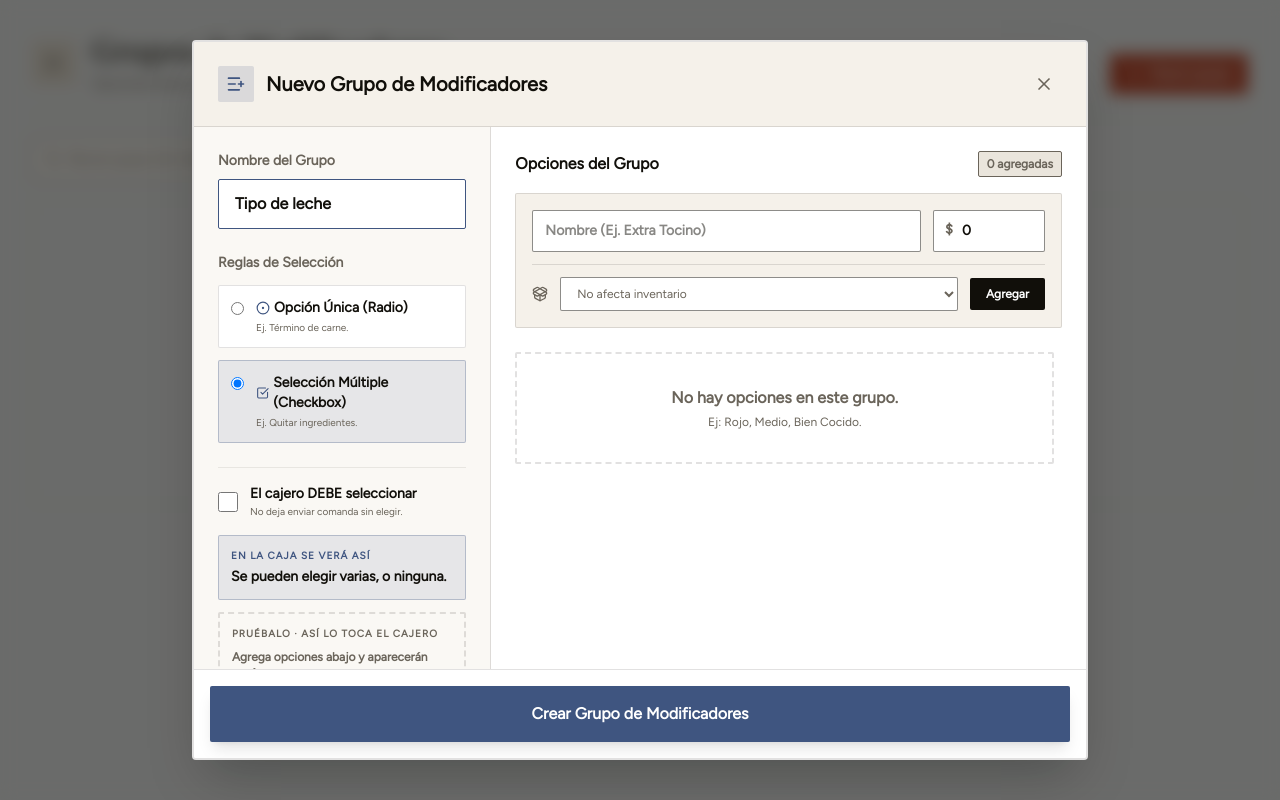
Test case: ModificadoresScreen · opción con varios insumos › la lista del grupo muestra cada insumo de la opción
Earlier steps of the test are not shown.
In the field with placeholder "Nombre (Ej. Extra Tocino)": (727, 231) [532,210,921,252], type "Deslactosada"
Replace the text in the number field with placeholder "Costo" with "6": (989, 231) [933,210,1045,252]
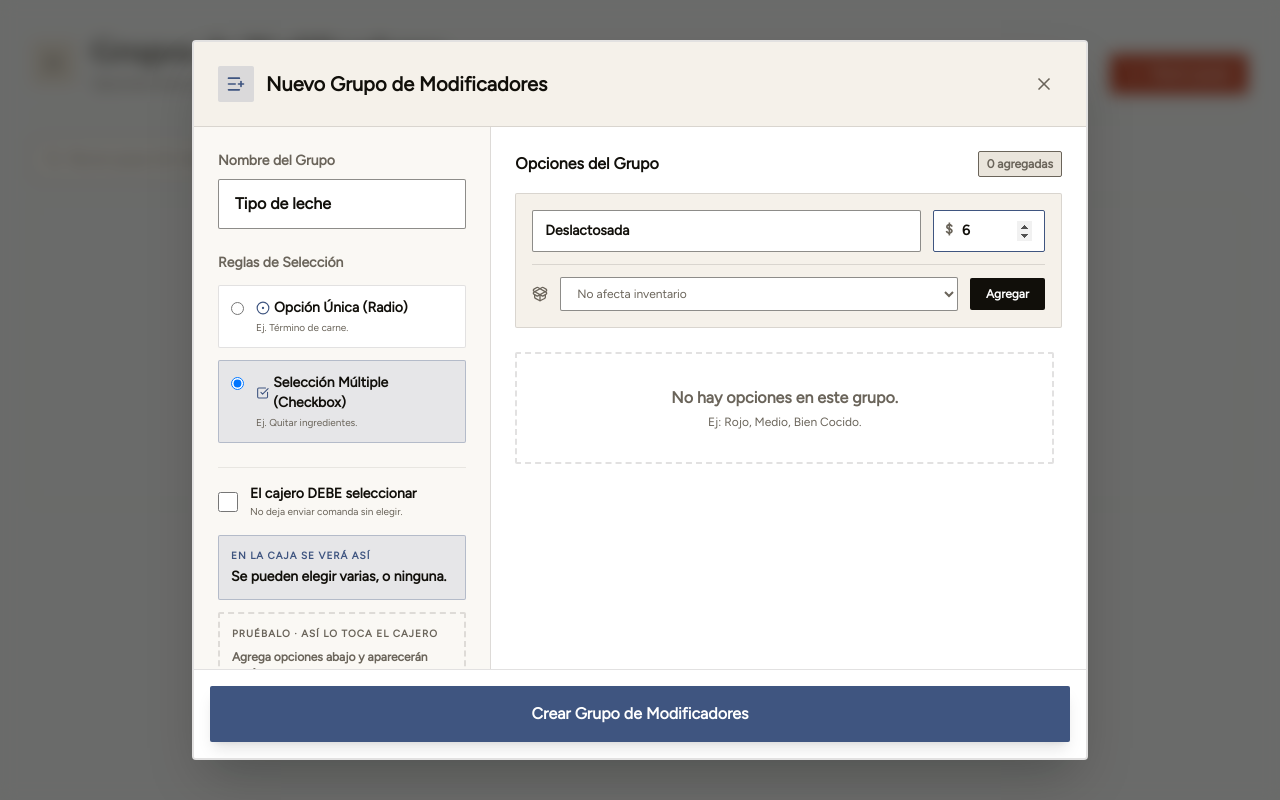
Select "Descontar: Leche Deslactosada" in the dropdown showing "No afecta inventario": (759, 294) [560,277,958,311]
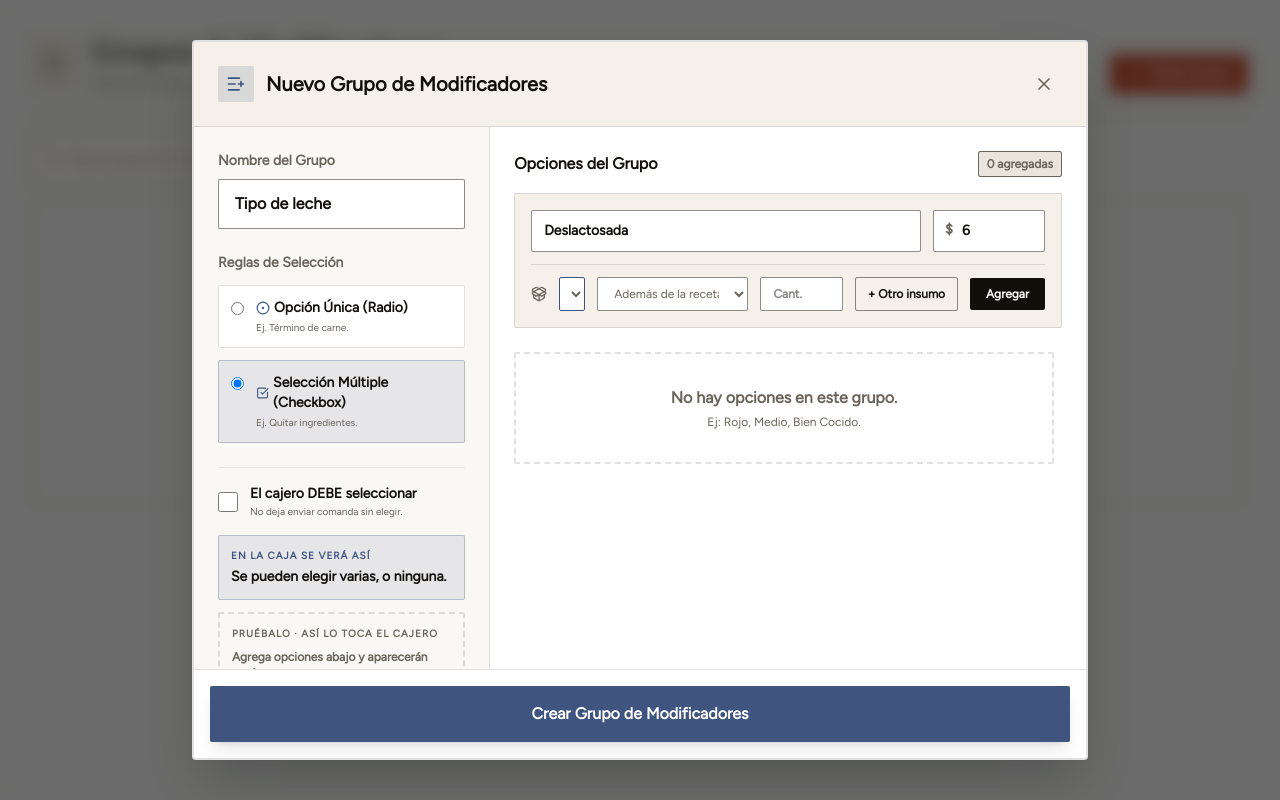
Select "En lugar de: Leche Entera" in the dropdown named "Cómo afecta la receta": (673, 294) [597,277,748,311]
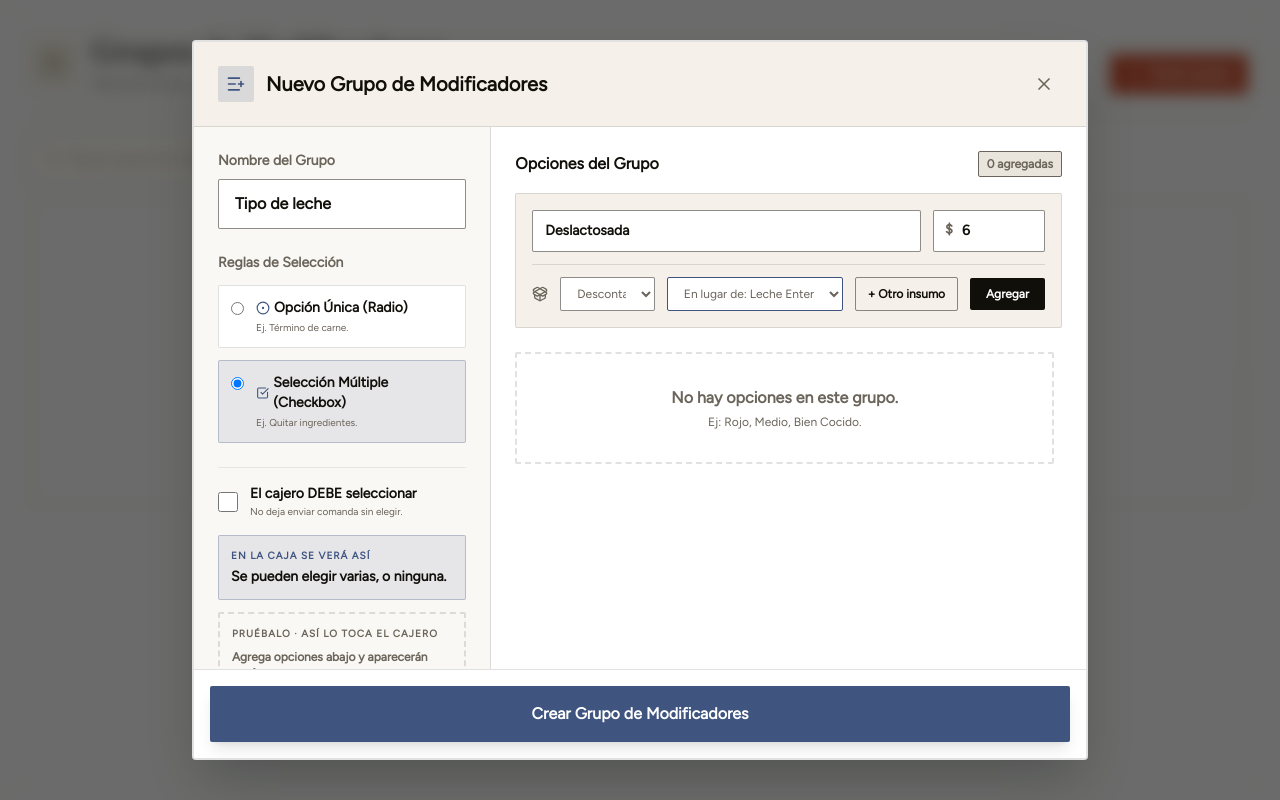
Click the button "+ Otro insumo": (906, 294) [855,277,958,311]
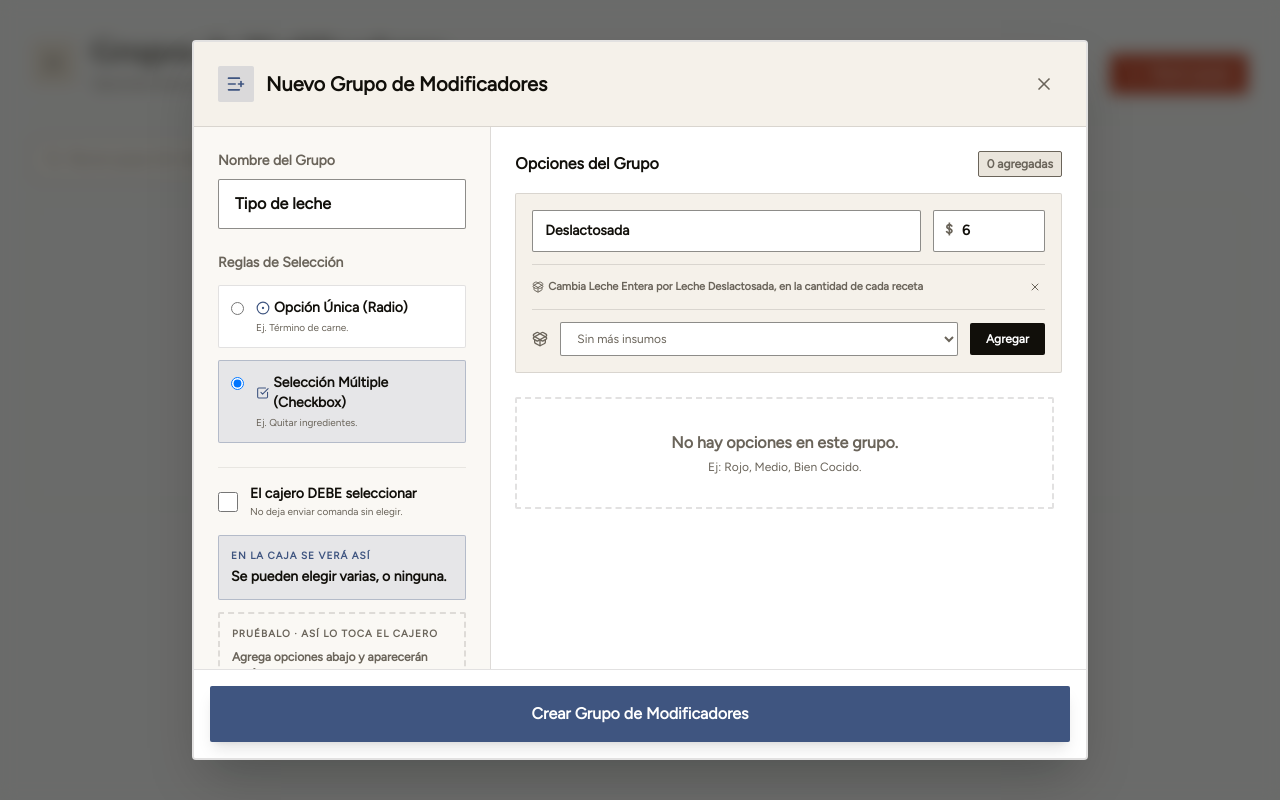
Select "Descontar: Leche Entera" in the dropdown showing "Sin más insumos": (759, 339) [560,322,958,356]
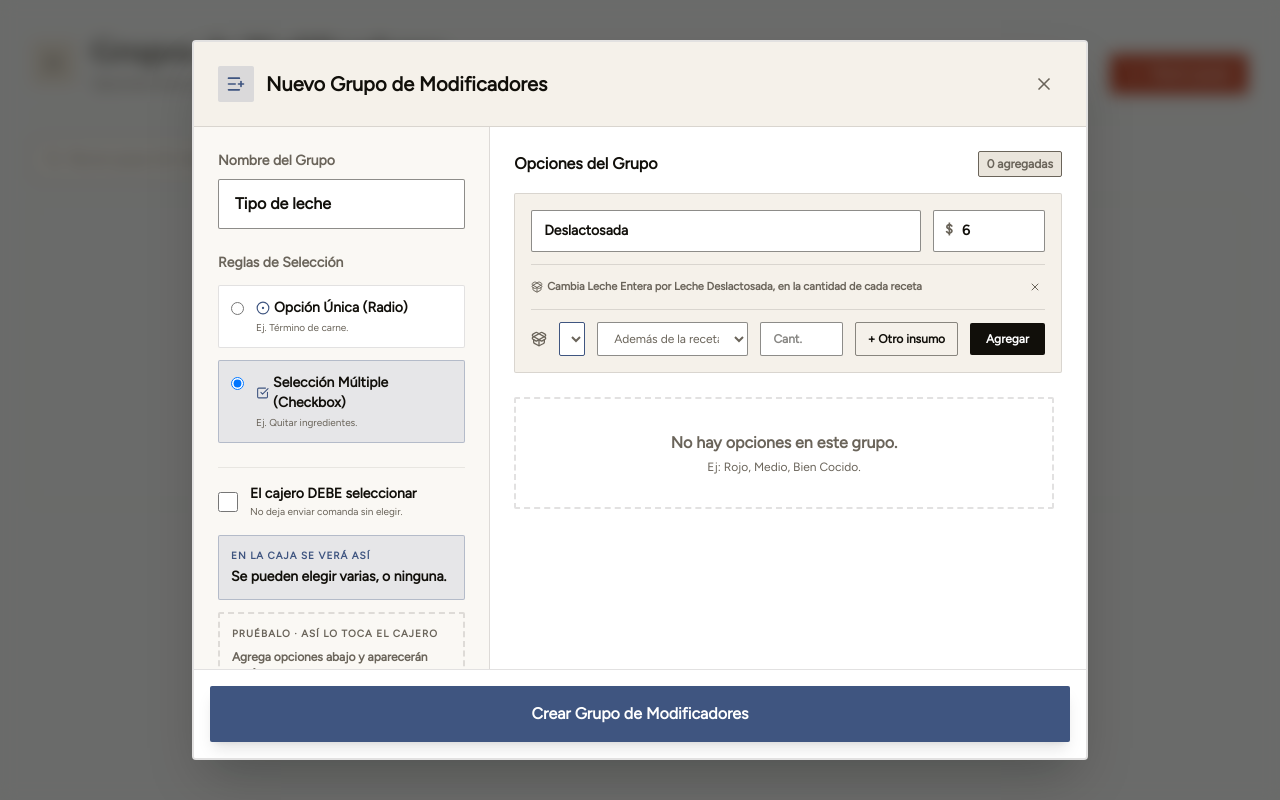
In the number field with placeholder "Cant.": (802, 339) [760,322,843,356], type "15"
Click the button "Agregar": (1008, 339) [970,323,1045,355]
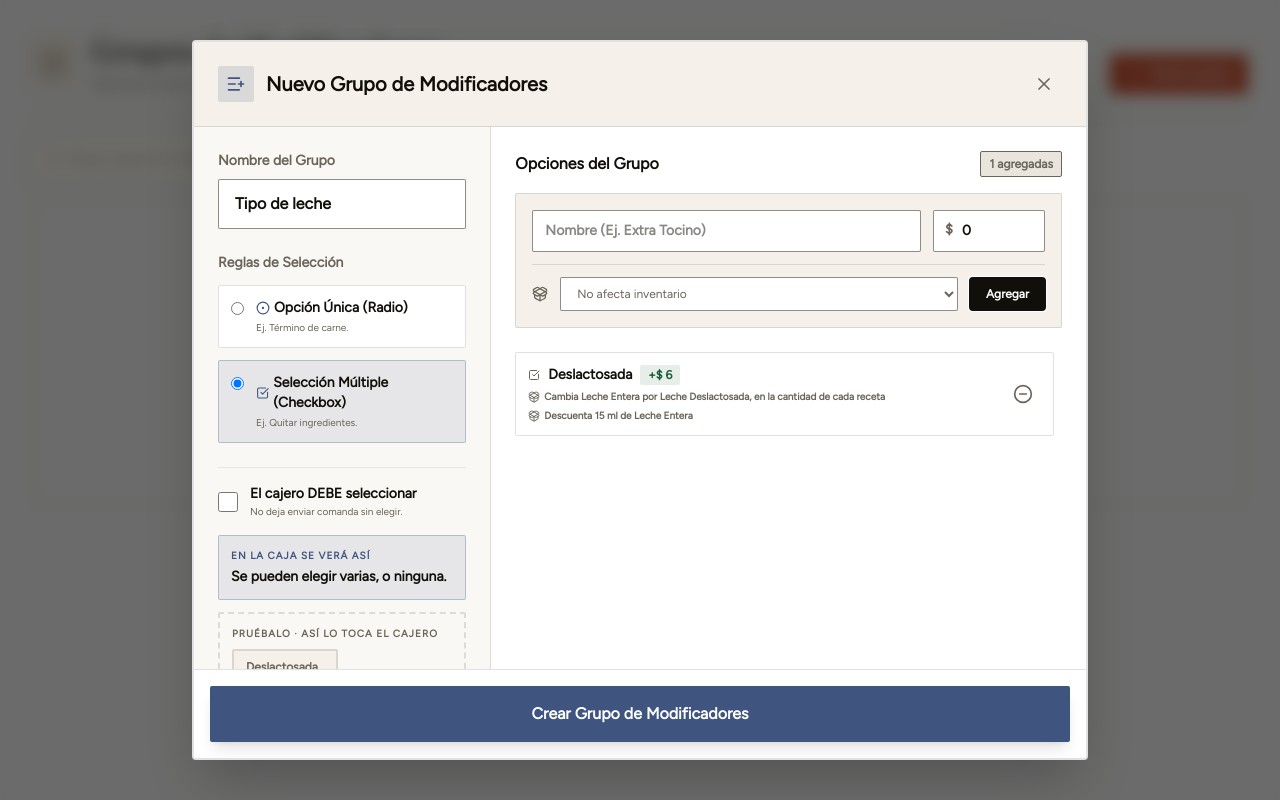
Check: the text "Cambia Leche Entera por Leche Deslactosada" is shown, box [544,390,885,403]
Check: the text "Descuenta 15 ml de Leche Entera" is shown, box [528,409,693,422]
